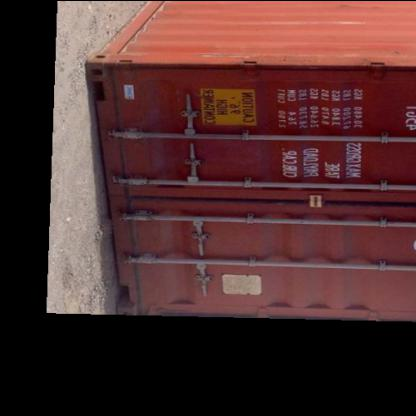Damage: (98, 57, 178, 124), (193, 140, 264, 181), (227, 12, 372, 32)
